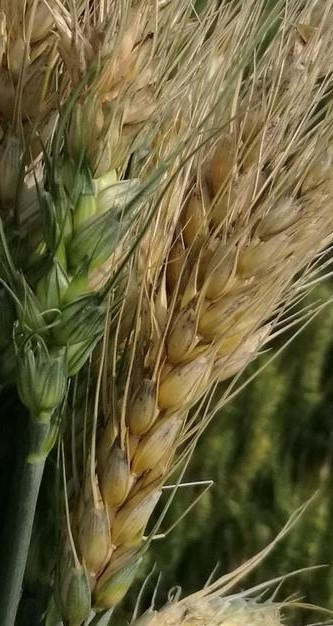Wheat scab: (45, 248, 261, 626)
